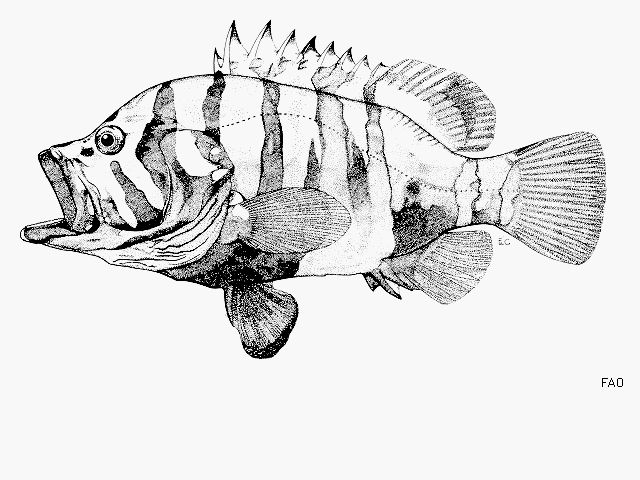fish: (20, 20, 608, 358)
